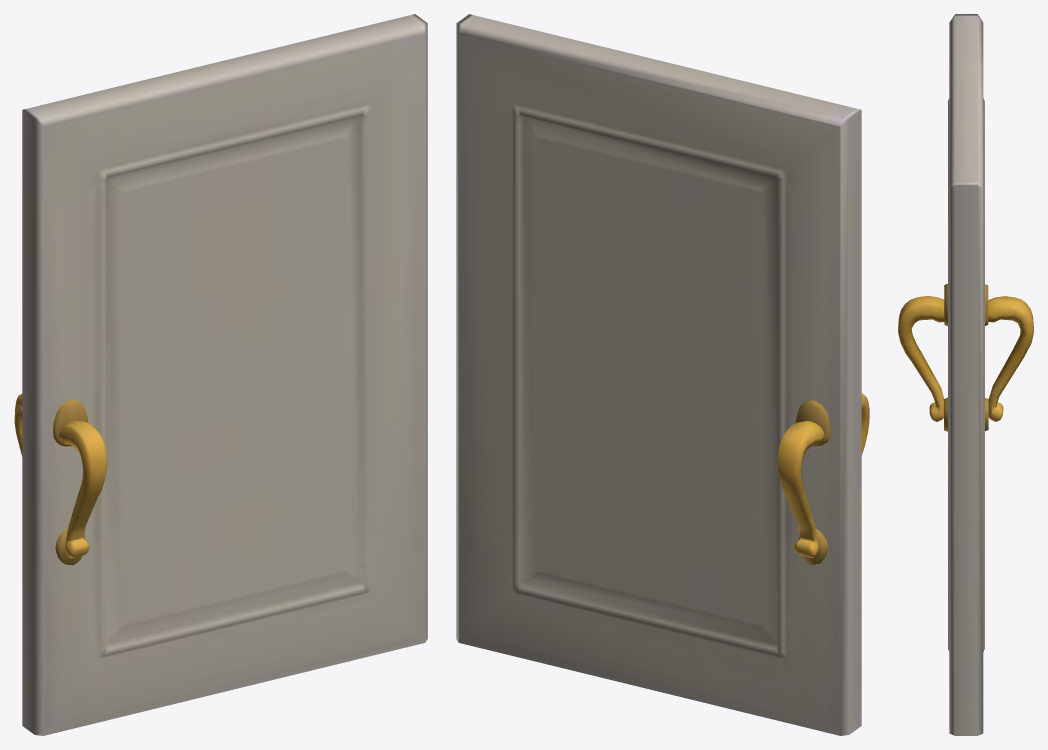
Rendered from door-simple-s.glb.
3 renders of one model, left to right at view 1: azimuth 30°, elevation 25°; view 2: azimuth 150°, elevation 25°; view 3: azimuth 270°, elevation 25°, orthographic. The views are drawn at different scales.
Size of the model in its own units: 12 by 17.98 by 4.02.
Materials: 1 (1 with a texture image).
